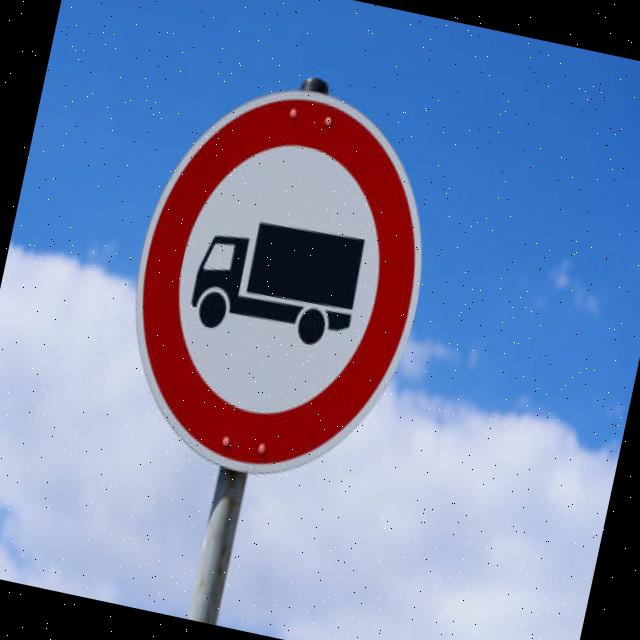do_not_enter: (80, 45, 470, 518)
